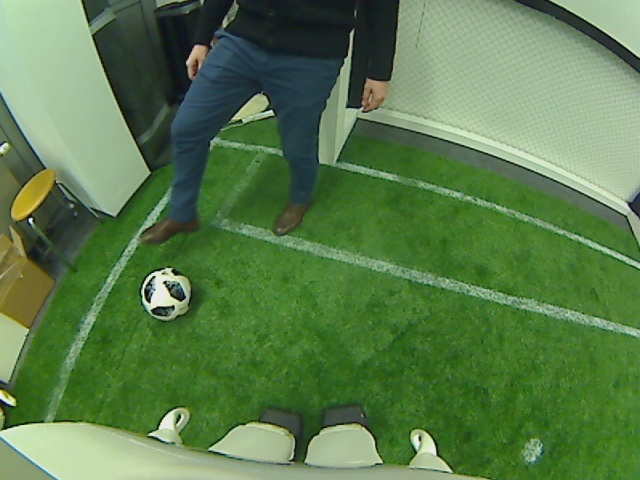ball: (139, 266, 191, 322)
